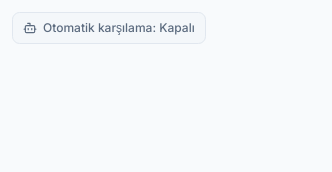
Test: AutoReplyToggle (UI) › shows the current state and flips on a successful PATCH
The image size is (332, 172).
Click the button at coordinates (109, 28), box [12, 12, 206, 44]
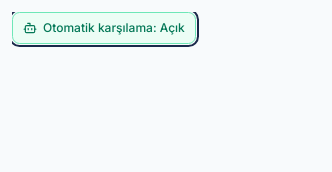
Result: the button shows "Açık" at [12, 12, 196, 44]
